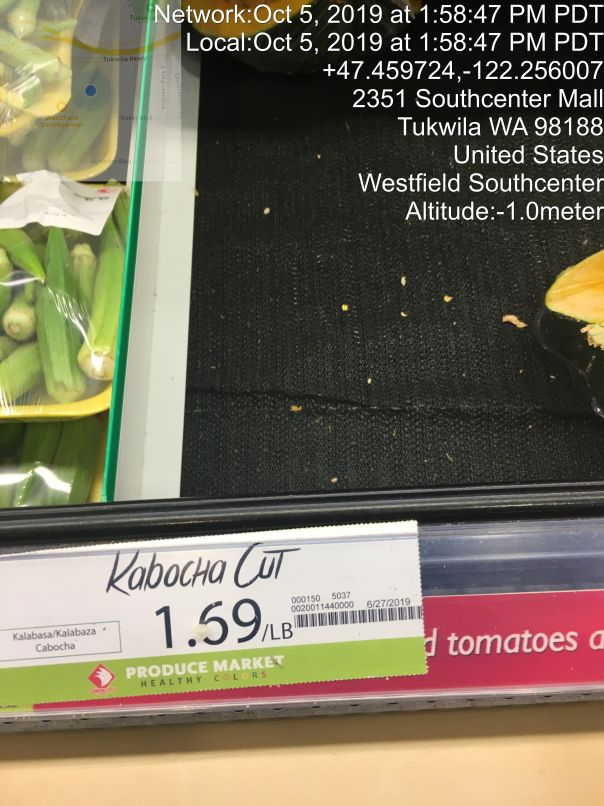Label: (17, 527, 447, 689)
Location: (340, 79, 604, 192)
Time: (142, 1, 604, 62)
Void: (178, 20, 570, 473)
